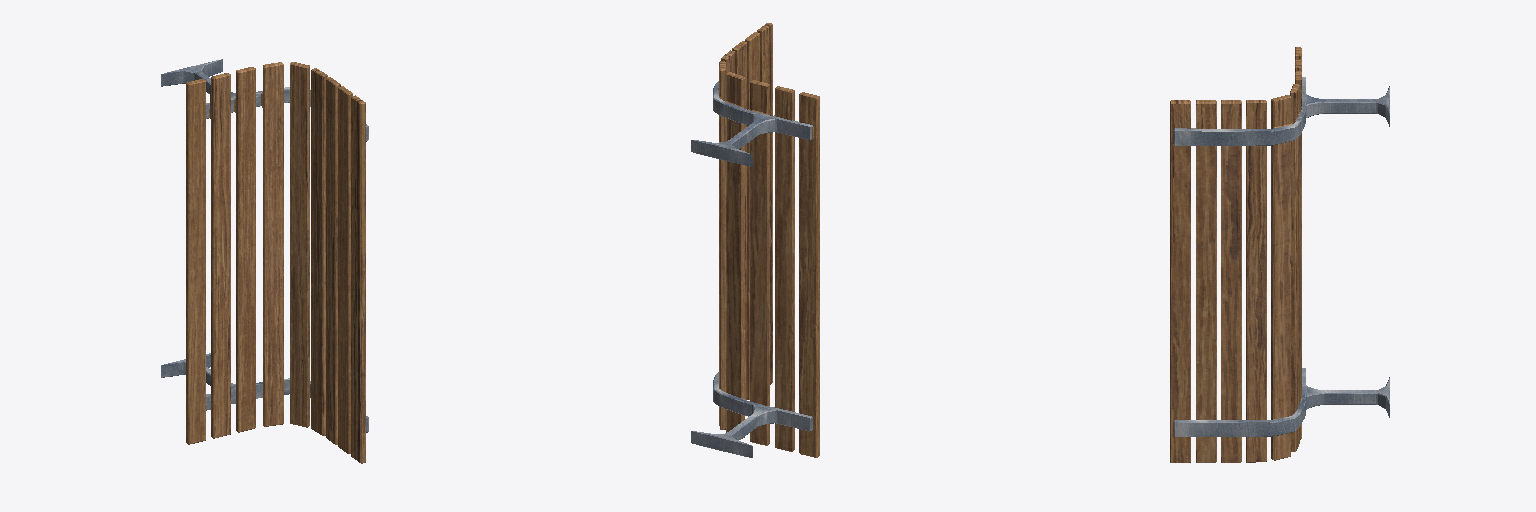
3 renders of one model, left to right at view 1: azimuth 30°, elevation 25°; view 2: azimuth 150°, elevation 25°; view 3: azimuth 270°, elevation 25°, orthographic.
Parts seen in each view (by area): view 1: Cube; view 2: Cube; view 3: Cube.
Part boxes in pixels (x1,y1,x2,y2): Cube: (161, 59, 368, 463); Cube: (691, 23, 819, 457); Cube: (1170, 47, 1389, 462).
Size of the model in its own units: 135 by 389 by 215.
1 materials, 1 textured.